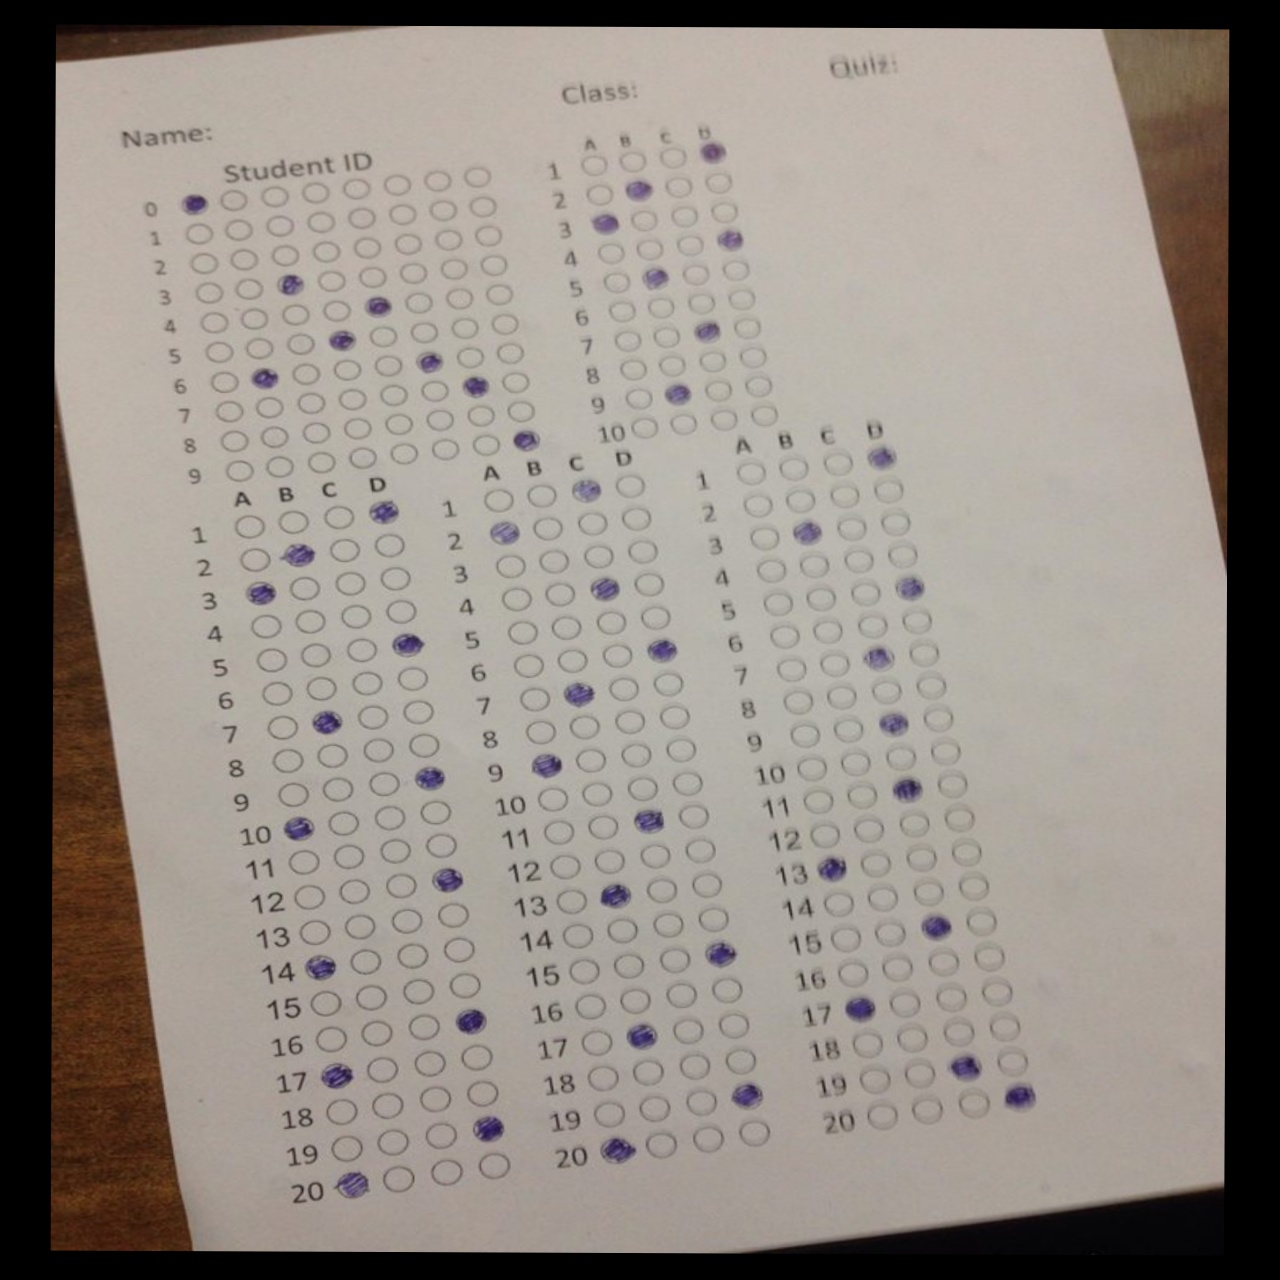not-c: (959, 1088, 995, 1121), (939, 1019, 976, 1049), (312, 1024, 348, 1054), (477, 1151, 513, 1180), (377, 1165, 416, 1192), (845, 779, 877, 812), (610, 952, 645, 981), (918, 707, 954, 735), (600, 642, 633, 673), (738, 1117, 771, 1148), (376, 1126, 410, 1156), (504, 618, 538, 647), (958, 873, 992, 903), (297, 919, 332, 947), (427, 1160, 467, 1185), (400, 978, 436, 1005), (418, 1087, 455, 1114), (328, 1135, 365, 1162), (606, 918, 642, 945), (642, 1132, 680, 1158), (930, 738, 962, 768), (672, 1017, 706, 1046), (680, 1051, 714, 1080), (964, 908, 998, 937), (445, 973, 484, 998), (578, 1032, 617, 1056), (352, 985, 387, 1012), (322, 1098, 358, 1125), (370, 1092, 406, 1119), (523, 719, 558, 745), (692, 872, 727, 899), (880, 512, 915, 539), (942, 806, 978, 833), (910, 880, 945, 907), (689, 1125, 726, 1151), (878, 956, 914, 982), (324, 775, 355, 804), (368, 771, 401, 799), (558, 924, 595, 948), (733, 458, 765, 486), (822, 890, 855, 918), (828, 926, 865, 951), (263, 452, 297, 479), (373, 532, 407, 559), (345, 915, 379, 942), (350, 947, 384, 974), (459, 1046, 493, 1073), (422, 1122, 456, 1149), (659, 704, 693, 731), (617, 987, 651, 1014), (592, 1101, 626, 1128), (801, 788, 835, 815), (949, 842, 983, 869), (865, 884, 899, 911), (978, 980, 1012, 1007), (297, 181, 332, 206), (302, 678, 341, 701), (572, 993, 607, 1019), (835, 516, 870, 542), (904, 846, 939, 872), (888, 992, 924, 1017), (903, 1061, 938, 1087), (420, 170, 456, 195), (355, 704, 392, 729), (307, 990, 343, 1015), (865, 1103, 896, 1132), (409, 731, 441, 760), (367, 1055, 399, 1083), (995, 1050, 1027, 1078), (384, 873, 417, 900), (595, 610, 628, 636), (556, 648, 588, 675), (544, 818, 577, 845), (686, 1089, 719, 1116), (825, 685, 858, 712), (915, 676, 948, 703), (831, 719, 864, 745), (275, 781, 309, 806), (406, 1013, 440, 1039), (663, 983, 697, 1009), (903, 610, 937, 635), (934, 986, 968, 1012), (913, 1098, 947, 1124), (284, 333, 319, 358), (339, 604, 374, 628), (581, 782, 617, 806), (896, 812, 931, 837), (654, 669, 685, 697), (301, 642, 333, 669), (318, 742, 349, 769), (392, 908, 423, 935), (520, 685, 552, 712), (660, 947, 692, 974), (724, 1048, 756, 1075), (821, 653, 852, 680), (401, 701, 437, 724), (565, 960, 601, 983), (586, 1067, 622, 1090), (821, 452, 857, 476), (532, 515, 565, 540), (670, 771, 703, 797), (275, 510, 309, 535), (467, 1081, 501, 1105), (624, 538, 658, 563), (748, 526, 782, 551), (856, 614, 890, 639), (787, 723, 821, 748), (237, 547, 272, 571), (511, 655, 546, 679), (438, 903, 469, 930), (876, 921, 906, 948), (353, 670, 384, 696), (285, 849, 316, 874), (850, 581, 881, 607), (768, 625, 799, 651), (813, 618, 845, 644), (894, 1026, 926, 1051), (851, 819, 887, 842), (850, 1034, 886, 1056), (346, 639, 379, 663), (399, 667, 431, 692), (373, 806, 406, 831), (425, 835, 458, 859), (359, 1022, 392, 1047), (697, 908, 730, 933), (633, 1061, 666, 1085), (842, 550, 874, 574), (783, 690, 816, 715), (871, 680, 904, 704), (338, 880, 372, 904), (685, 292, 719, 315), (549, 855, 583, 878), (652, 913, 686, 937), (265, 713, 295, 738), (550, 615, 580, 641), (627, 775, 658, 801), (641, 1097, 672, 1123), (928, 952, 959, 978), (376, 840, 411, 863), (658, 147, 693, 169), (736, 346, 771, 368), (538, 551, 573, 573), (676, 806, 712, 829), (321, 298, 353, 322), (719, 1013, 750, 1037), (756, 558, 788, 583), (212, 401, 245, 424), (383, 601, 416, 625), (294, 885, 327, 908), (397, 944, 430, 967), (636, 844, 669, 867), (645, 879, 678, 903), (873, 481, 906, 504), (804, 588, 837, 612), (829, 486, 865, 508), (365, 738, 393, 765), (336, 843, 363, 871), (425, 199, 459, 222), (617, 743, 651, 765), (223, 456, 252, 482), (348, 445, 377, 471), (420, 799, 449, 825), (416, 1053, 445, 1078), (704, 377, 734, 403), (764, 592, 794, 618), (343, 176, 374, 200), (578, 511, 608, 536), (640, 607, 670, 632), (576, 748, 606, 772), (838, 961, 869, 986), (217, 186, 248, 210), (250, 615, 281, 639), (257, 647, 288, 670), (669, 205, 701, 229), (620, 508, 652, 531), (544, 583, 576, 606), (610, 679, 641, 702), (557, 890, 588, 913), (743, 495, 775, 518), (785, 489, 817, 512), (887, 745, 919, 769), (243, 338, 275, 360), (338, 388, 370, 410), (627, 416, 660, 438), (860, 855, 893, 877), (859, 1070, 892, 1092), (493, 312, 522, 338), (302, 420, 331, 445), (937, 772, 965, 798), (772, 660, 809, 680), (395, 231, 424, 256), (342, 416, 372, 441), (234, 515, 264, 539), (325, 506, 354, 531), (288, 577, 318, 601), (713, 978, 742, 1002), (779, 457, 809, 482), (304, 451, 338, 472), (474, 225, 504, 248), (399, 261, 429, 285), (406, 291, 436, 314), (495, 342, 525, 366), (390, 443, 421, 467), (327, 811, 358, 835), (588, 817, 619, 840), (990, 1014, 1021, 1037), (462, 166, 493, 189), (263, 215, 294, 237), (433, 227, 464, 250), (380, 384, 411, 407), (418, 382, 450, 404), (260, 425, 292, 448), (445, 940, 477, 962), (576, 154, 607, 176), (663, 176, 695, 198), (606, 301, 638, 324), (484, 491, 516, 513), (686, 840, 717, 863), (799, 554, 831, 577), (389, 202, 416, 227), (331, 536, 358, 561), (268, 244, 297, 268), (338, 572, 366, 597), (704, 171, 733, 196), (316, 271, 346, 294), (486, 282, 516, 306), (411, 322, 441, 346), (381, 567, 410, 591), (265, 681, 294, 704), (273, 750, 302, 774), (670, 411, 700, 435), (527, 483, 557, 506), (614, 475, 644, 498), (583, 545, 612, 568), (503, 587, 532, 611), (595, 851, 625, 874), (843, 753, 872, 776), (467, 403, 497, 425), (627, 207, 658, 230), (696, 350, 727, 373), (624, 388, 654, 410), (537, 790, 571, 810), (345, 207, 376, 229), (455, 346, 486, 367), (295, 612, 327, 633), (728, 290, 760, 311), (496, 554, 527, 576), (472, 195, 501, 218), (240, 307, 268, 331), (373, 355, 401, 379), (619, 150, 647, 173), (652, 326, 680, 349), (712, 408, 740, 431), (635, 576, 663, 599), (430, 440, 463, 459), (224, 218, 253, 240), (353, 238, 382, 260), (441, 258, 470, 280), (451, 318, 481, 340), (509, 399, 538, 421), (656, 355, 686, 377), (617, 712, 646, 734), (810, 825, 839, 847), (381, 173, 411, 195), (305, 211, 335, 232), (311, 241, 341, 263), (481, 254, 511, 275), (665, 738, 695, 760), (886, 547, 917, 568), (910, 642, 940, 663), (210, 372, 237, 395), (586, 184, 613, 207), (292, 365, 324, 384), (617, 360, 648, 380), (281, 302, 309, 325), (220, 429, 248, 451), (602, 273, 631, 295), (369, 327, 399, 348), (678, 234, 707, 256), (568, 717, 598, 738), (445, 290, 476, 309), (185, 222, 211, 245), (298, 392, 325, 414), (976, 948, 1003, 971), (254, 397, 282, 418), (502, 373, 530, 394), (472, 433, 501, 454), (333, 360, 362, 380), (595, 243, 625, 263), (722, 261, 751, 281), (613, 331, 642, 350), (359, 267, 384, 290), (424, 410, 455, 429), (745, 376, 772, 397), (237, 279, 265, 299), (199, 313, 227, 333), (207, 339, 231, 362), (799, 758, 825, 779), (648, 297, 675, 316), (188, 256, 219, 272), (384, 415, 414, 433), (198, 282, 223, 302), (713, 202, 737, 222), (231, 251, 257, 270), (751, 407, 778, 424), (261, 186, 284, 207), (636, 240, 661, 259), (686, 266, 712, 284), (734, 320, 760, 338)
taken-c: (1001, 1082, 1039, 1115), (334, 1167, 370, 1199), (595, 1133, 634, 1163), (917, 911, 953, 941), (469, 1114, 506, 1143), (863, 445, 901, 474), (320, 1061, 354, 1091), (568, 477, 604, 506), (244, 579, 278, 608), (813, 852, 847, 881), (624, 1021, 658, 1050), (860, 645, 896, 673), (947, 1051, 982, 1080), (729, 1082, 763, 1110), (890, 576, 925, 602), (888, 776, 924, 803), (486, 520, 523, 546), (877, 708, 908, 737), (454, 1007, 486, 1035), (529, 751, 561, 779), (842, 993, 874, 1021), (366, 498, 400, 525), (309, 708, 343, 735), (644, 636, 678, 663), (598, 881, 632, 908), (302, 954, 338, 980), (561, 680, 595, 706), (631, 809, 665, 835), (588, 576, 620, 602), (702, 940, 734, 967), (458, 373, 491, 399), (281, 542, 314, 567), (282, 816, 316, 840), (697, 139, 728, 166), (433, 866, 464, 892), (790, 520, 823, 545), (622, 177, 653, 203), (715, 226, 745, 252), (663, 380, 694, 406), (392, 632, 423, 656), (414, 765, 445, 790), (690, 318, 722, 342), (248, 366, 279, 390), (588, 211, 619, 234), (640, 264, 667, 290), (275, 272, 304, 295), (414, 350, 443, 373), (361, 294, 392, 315), (181, 192, 207, 215), (328, 328, 355, 350), (512, 429, 539, 450)
